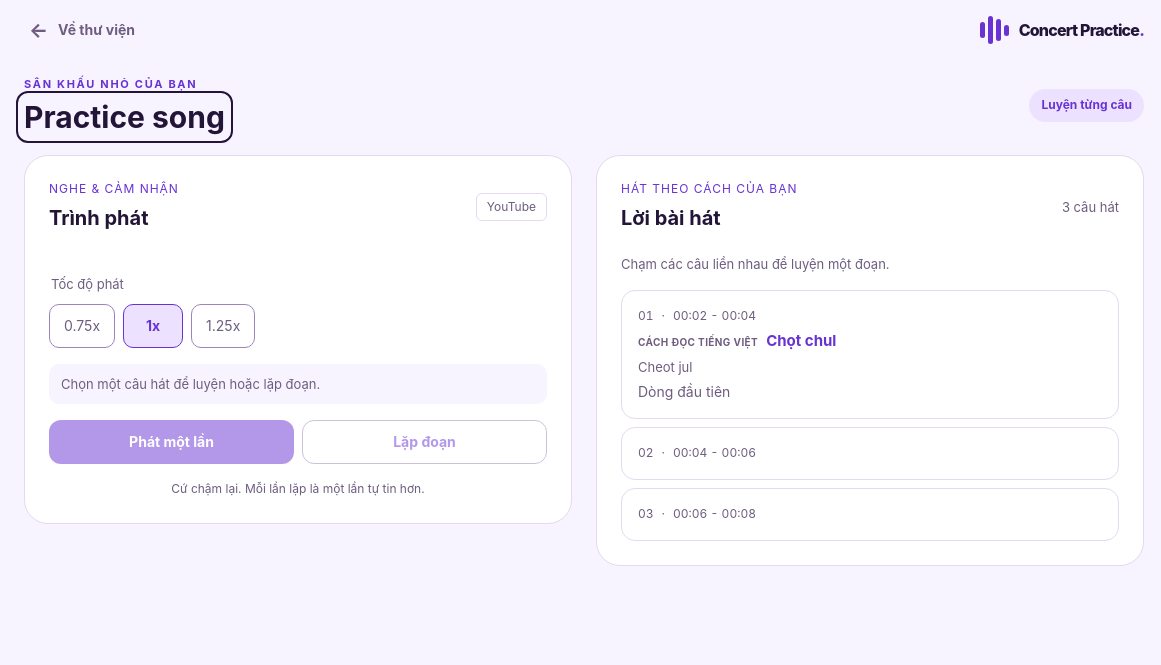
Test case: PracticePanel › rejects a non-adjacent selection
Click the button "Chọt chul" at {"x": 714, "y": 315}, box left=621, top=290, right=1119, bottom=420
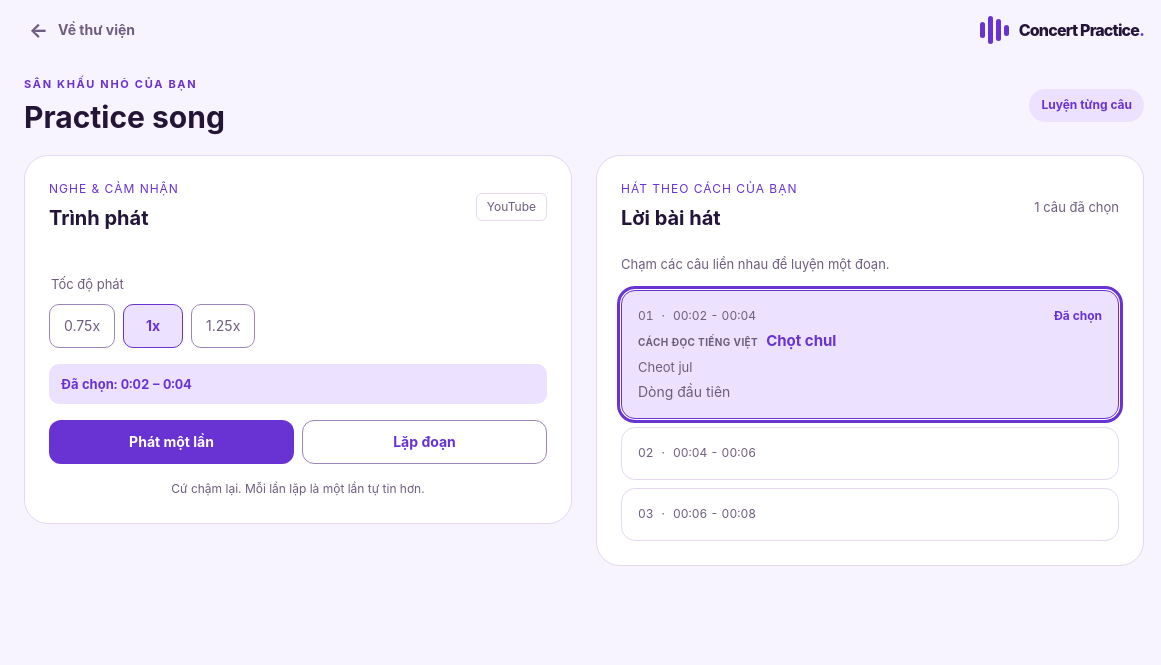
Click the button "03 · 00:06 - 00:08" at {"x": 714, "y": 514}, box left=621, top=488, right=1119, bottom=541
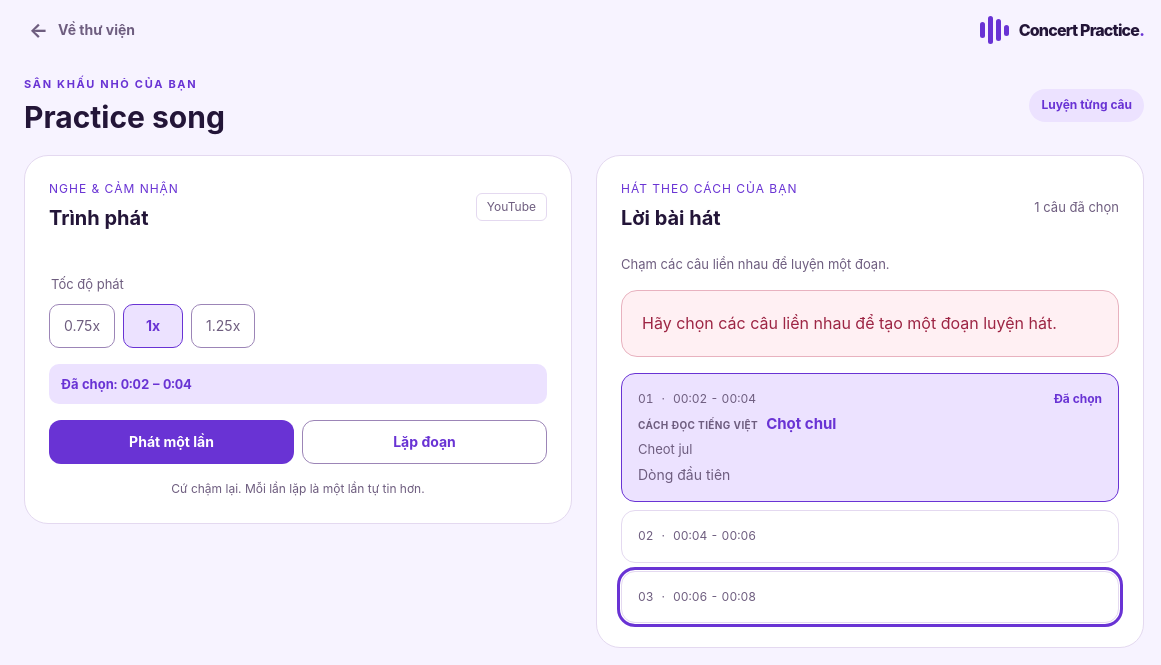
Expected: the message shows "liền nhau", left=642, top=313, right=1057, bottom=333
